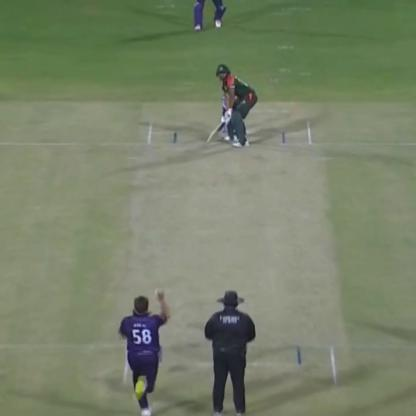bat: (197, 116, 236, 143)
pitch: (123, 136, 337, 388)
